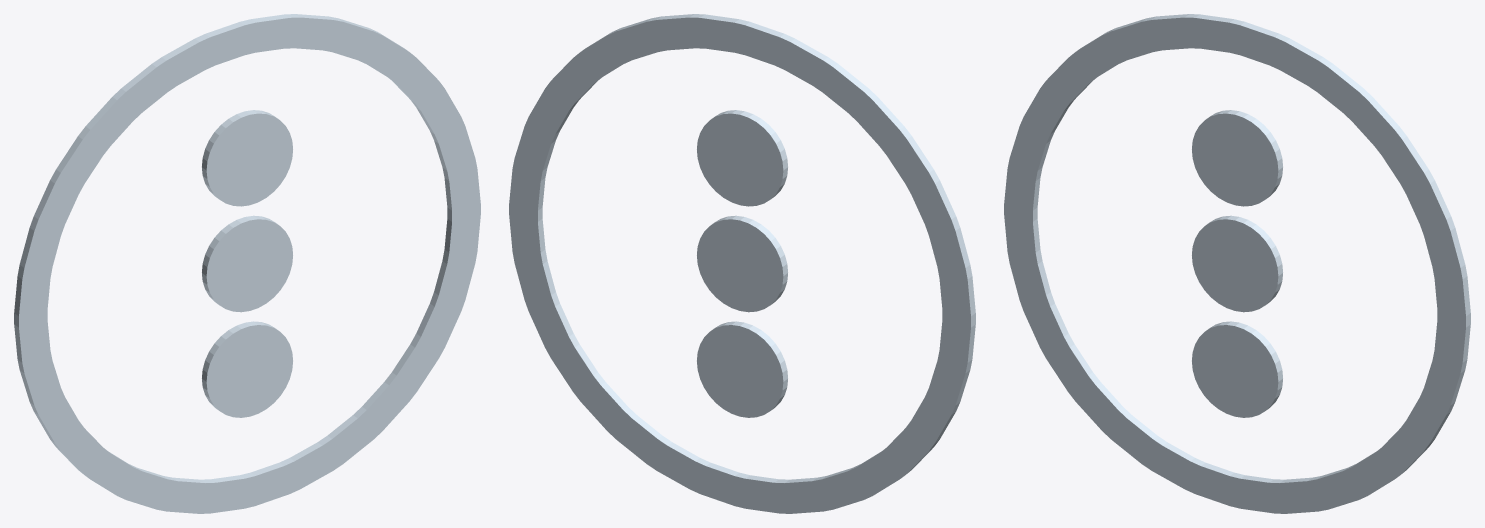
Rendered from Settings_3D_Icon_04.fbx.
3 views of the same model, side by side, from view 1: azimuth 30°, elevation 25°; view 2: azimuth 150°, elevation 25°; view 3: azimuth 330°, elevation 25° (orthographic).
Visible parts, largest first — view 1: Settings_3D_Icon_04; view 2: Settings_3D_Icon_04; view 3: Settings_3D_Icon_04.
Part boxes in pixels (left/top/right/bottom): Settings_3D_Icon_04: left=14, top=14, right=480, bottom=513; Settings_3D_Icon_04: left=509, top=14, right=975, bottom=513; Settings_3D_Icon_04: left=1004, top=14, right=1470, bottom=513.
Size of the model in its own units: 112 by 112 by 2.01.
